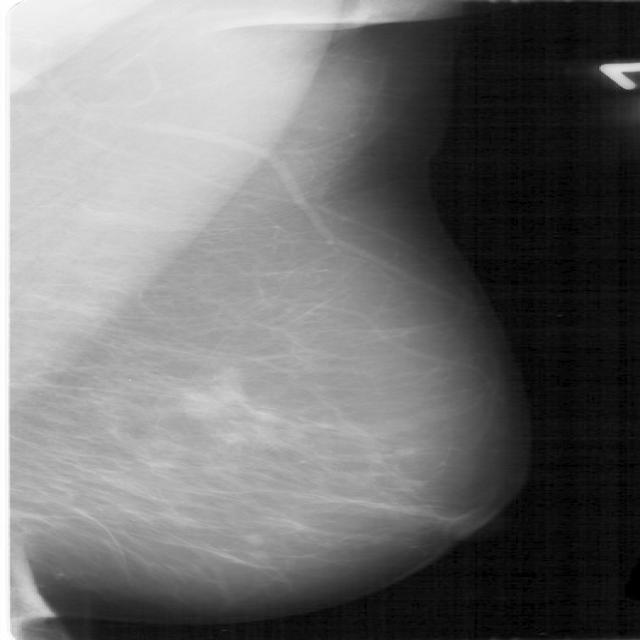tumour: (170, 373, 253, 419)
